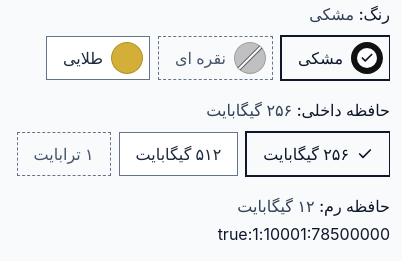
Scenario: VariantPicker › moves to an existing variant when the combination does not exist, struck if out of stock
Click the radio button labelled "نقره ای": [216, 58] box [158,36,273,80]
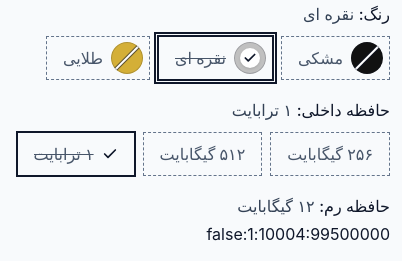
Expected: the text with test id "probe" reads "10004:99500000:false:1", [206,224,390,244]
